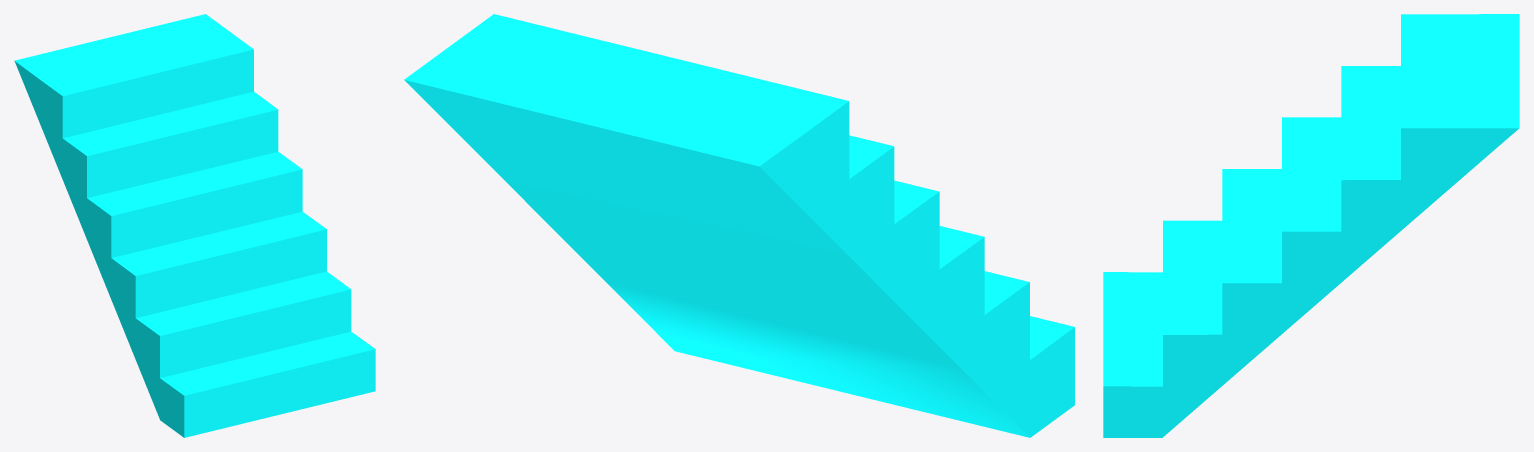
3 renders of one model, left to right at view 1: azimuth 30°, elevation 25°; view 2: azimuth 150°, elevation 25°; view 3: azimuth 270°, elevation 25°, orthographic. The views are drawn at different scales.
Parts seen in each view (by area): view 1: BaseStairs.005; view 2: BaseStairs.005; view 3: BaseStairs.005.
Boxes of the visible parts, x1,y1,x2,y2 form: BaseStairs.005: (14,14,375,437); BaseStairs.005: (404,14,1074,437); BaseStairs.005: (1103,14,1519,437).
Size of what is drawn, in the model's own units: 1.36 by 1.71 by 2.09.
Materials: 1 (1 with a texture image).
